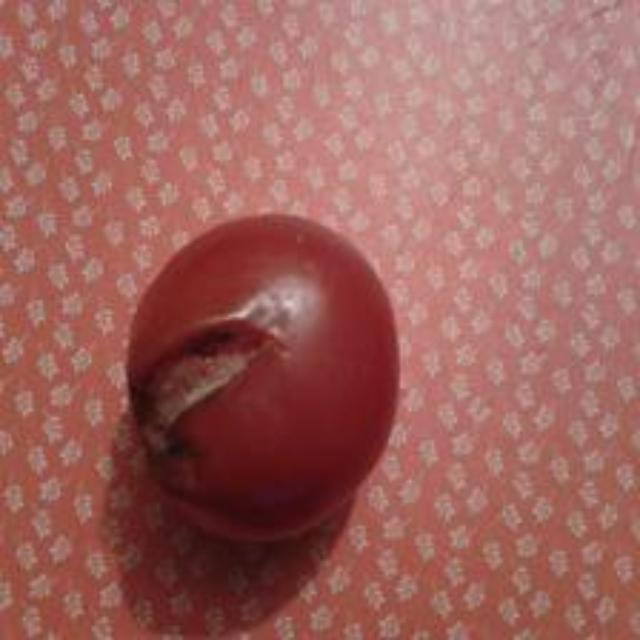defect: (118, 210, 404, 550)
